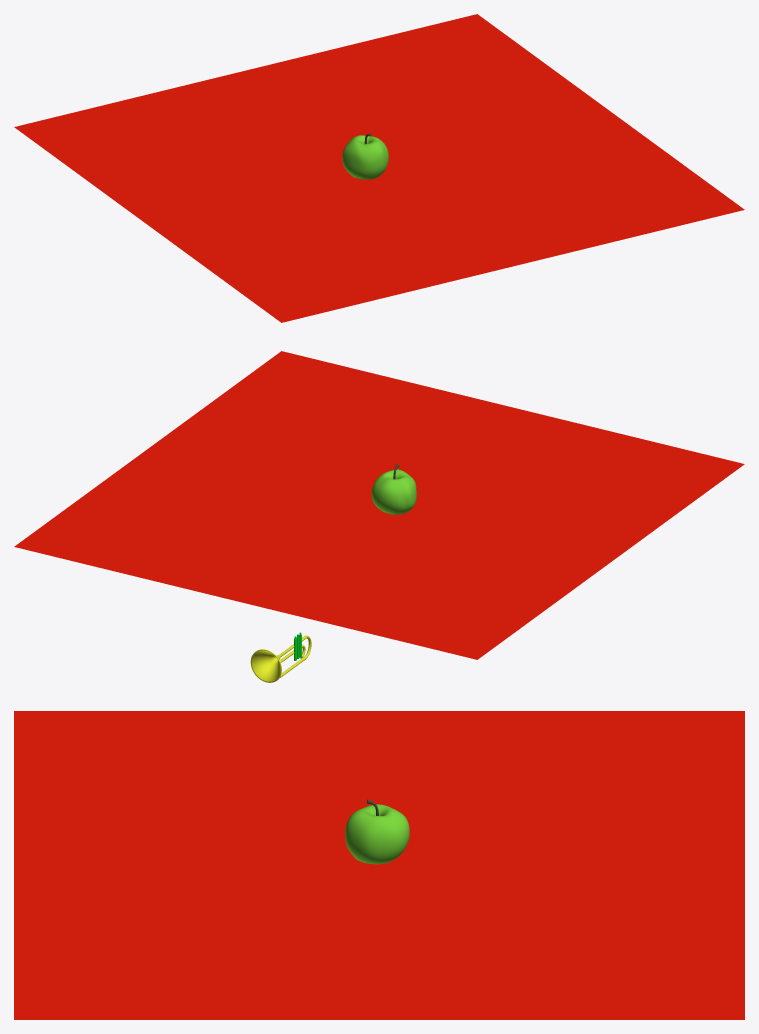
Rendered from Apple.fbx.
3 renders of one model, top to bottom at view 1: azimuth 30°, elevation 25°; view 2: azimuth 150°, elevation 25°; view 3: azimuth 270°, elevation 25°, orthographic. The views are drawn at different scales.
Parts seen in each view (by area): view 1: Plane, apple; view 2: Plane, apple, Circle; view 3: Plane, apple.
Boxes of the visible parts, left/top/right/bottom form: Plane: left=14, top=14, right=744, bottom=322; apple: left=342, top=135, right=388, bottom=179; Plane: left=14, top=351, right=744, bottom=659; apple: left=371, top=469, right=416, bottom=514; Circle: left=250, top=635, right=311, bottom=682; Plane: left=14, top=711, right=744, bottom=1019; apple: left=345, top=804, right=409, bottom=864.
Size of the model in its own units: 2958 by 812 by 2958.
